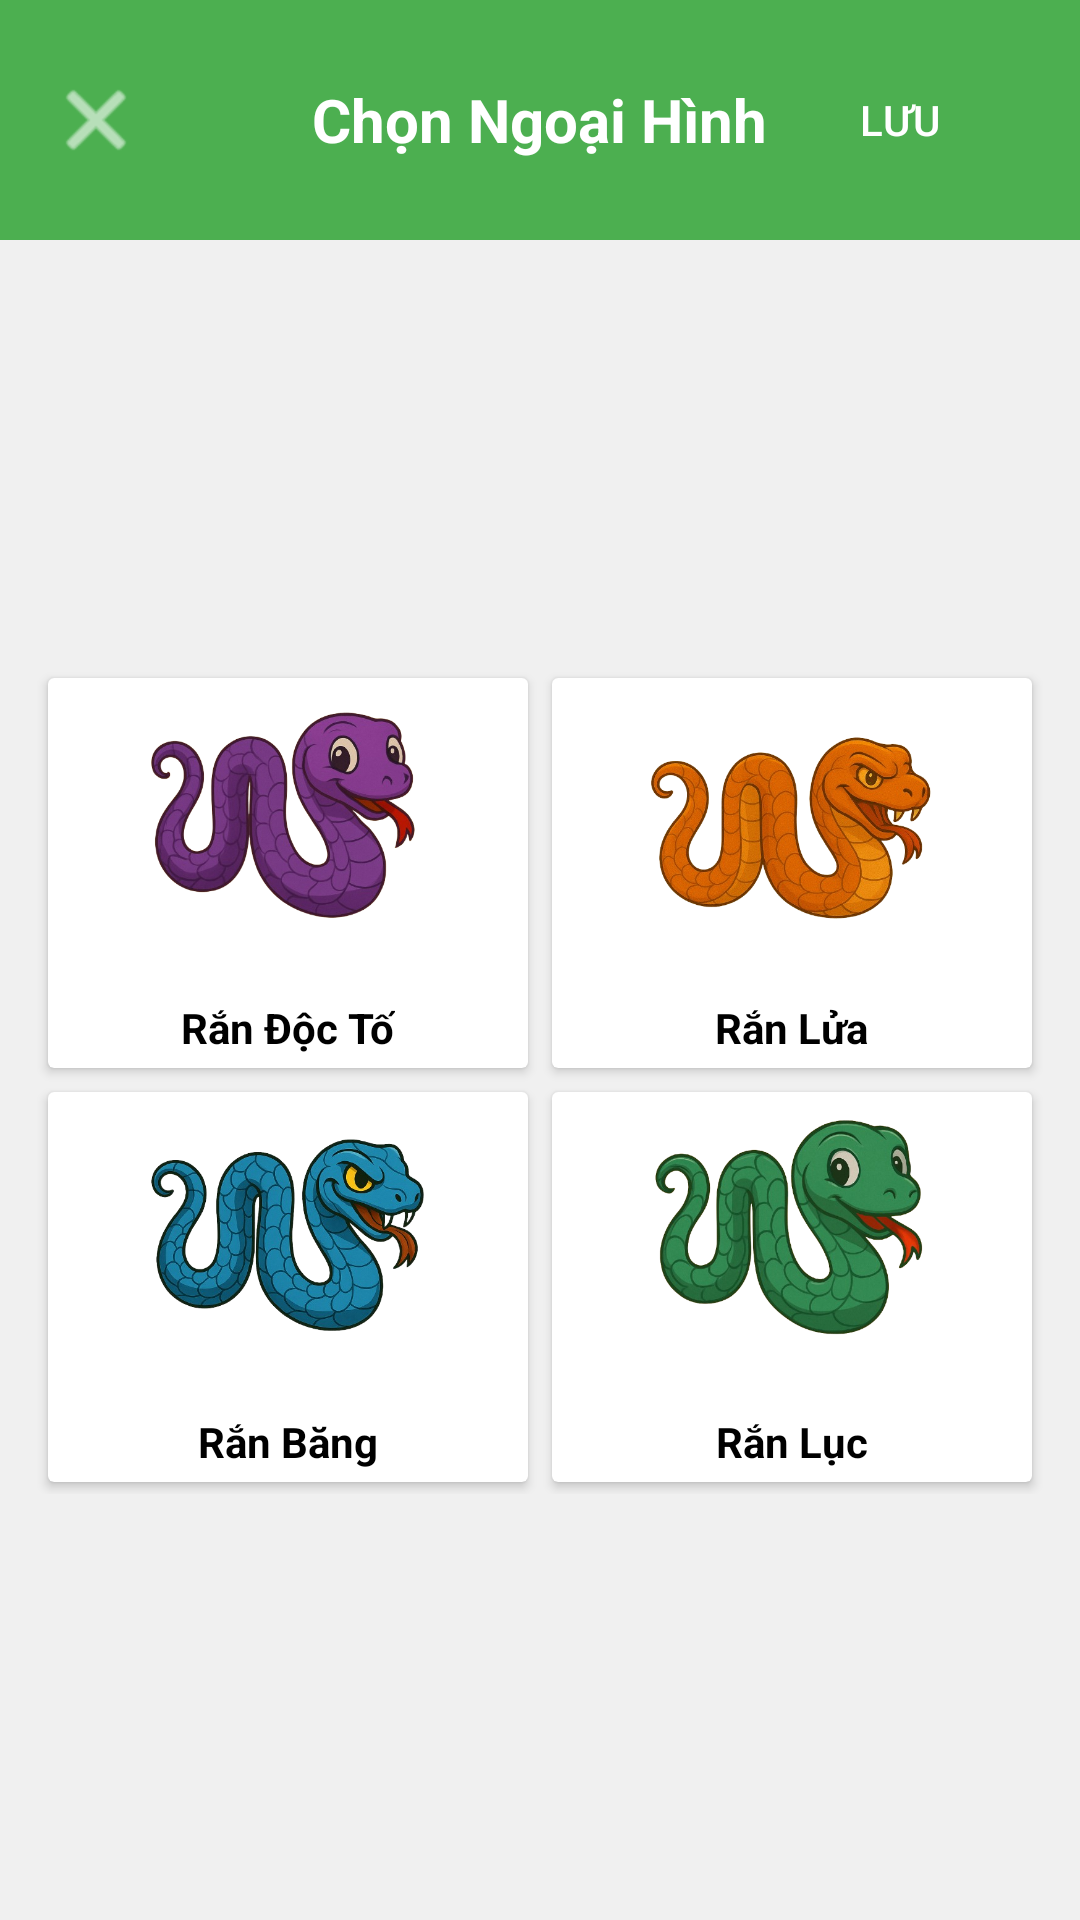

Named icons in this screenshot (1080x1920) and their bounding boxes, (x1, y1, x2, y2):
close clear cancel: (66, 90, 126, 150)
